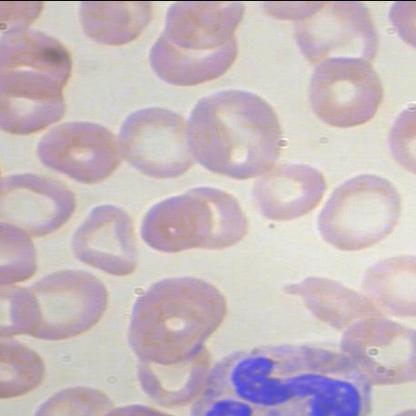RBC: (183, 83, 289, 183), (9, 258, 112, 346), (281, 271, 396, 349), (312, 162, 398, 256), (298, 52, 388, 132), (146, 15, 242, 86), (116, 104, 201, 180), (34, 114, 124, 184), (1, 24, 76, 103), (64, 202, 146, 274), (247, 162, 330, 226), (134, 189, 212, 254), (0, 70, 72, 134)
WBC: (187, 341, 383, 415)
